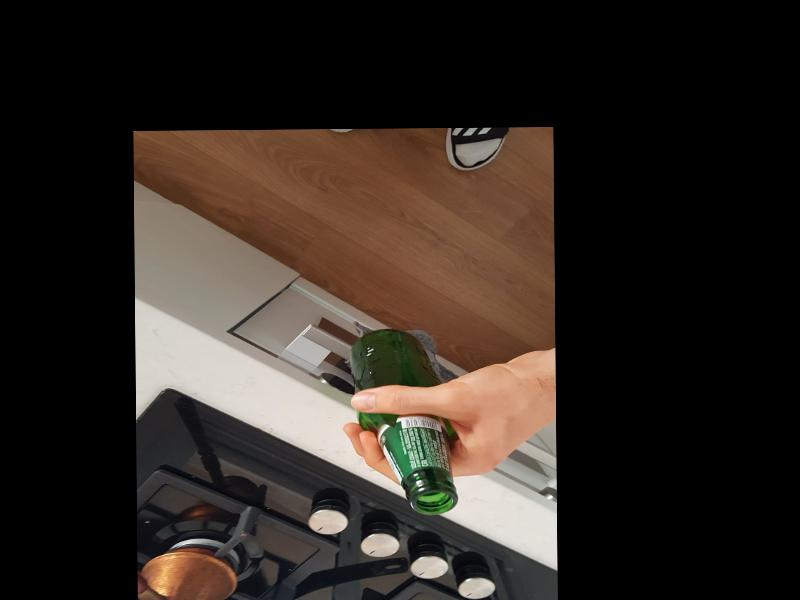Beer: (351, 327, 457, 515)
